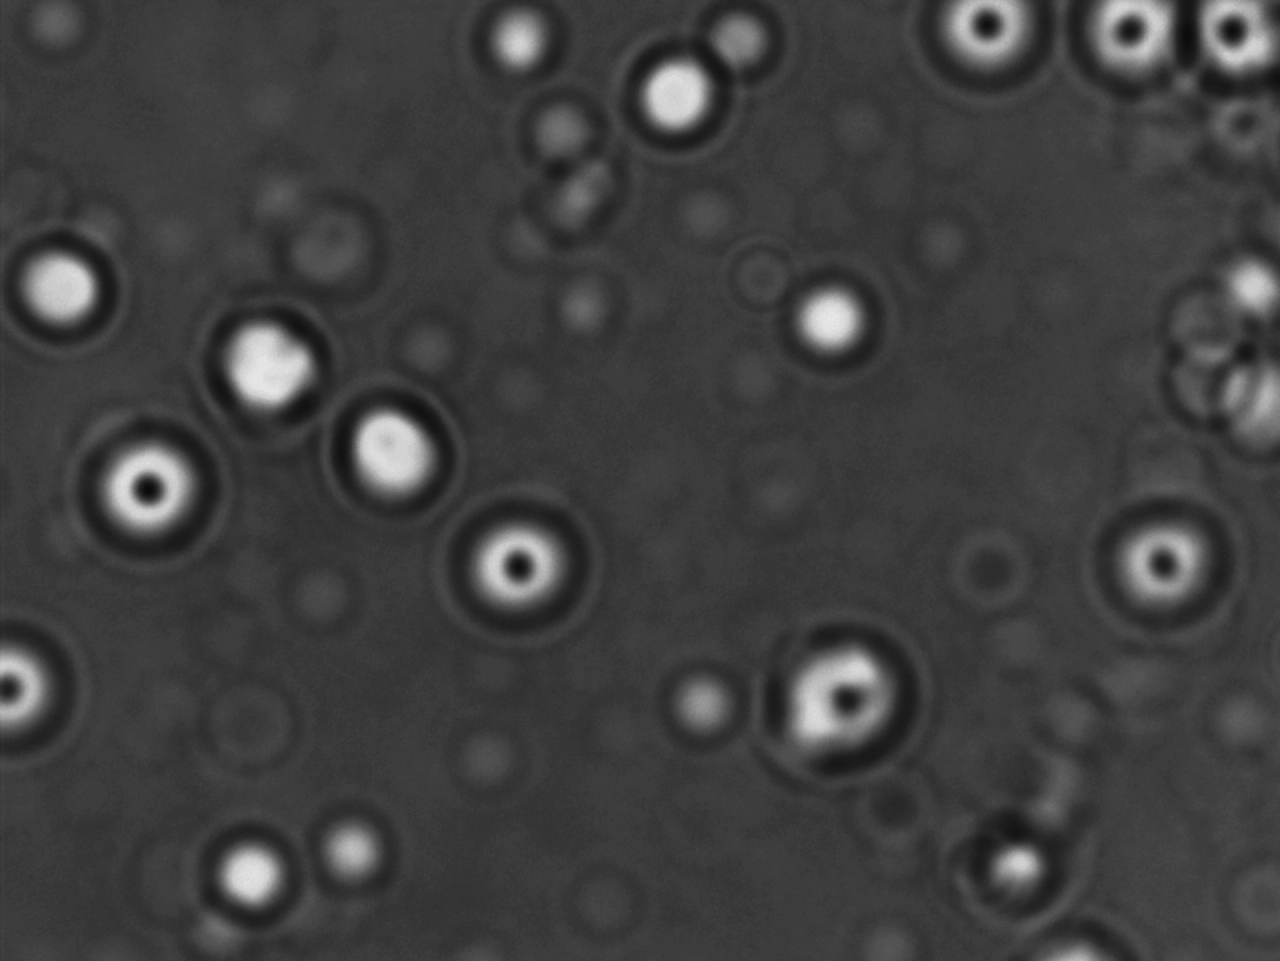depth:24: (441, 491, 603, 651), (76, 415, 231, 572), (768, 622, 931, 763), (1096, 493, 1239, 631)
